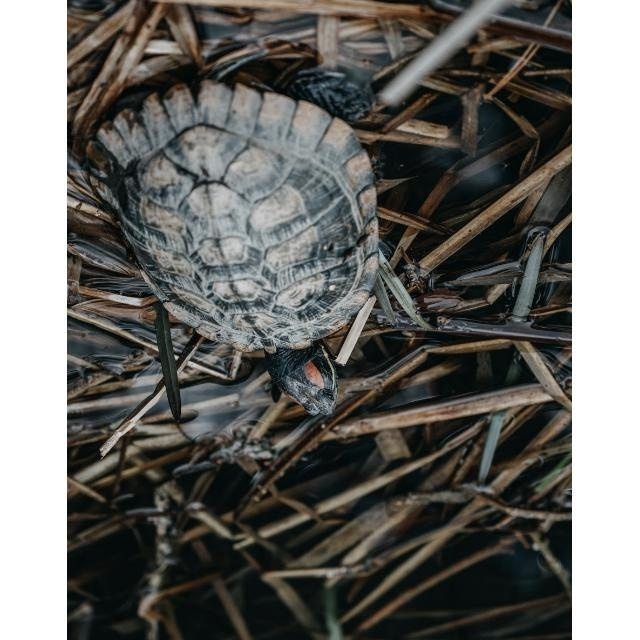turtle: (93, 73, 383, 418)
